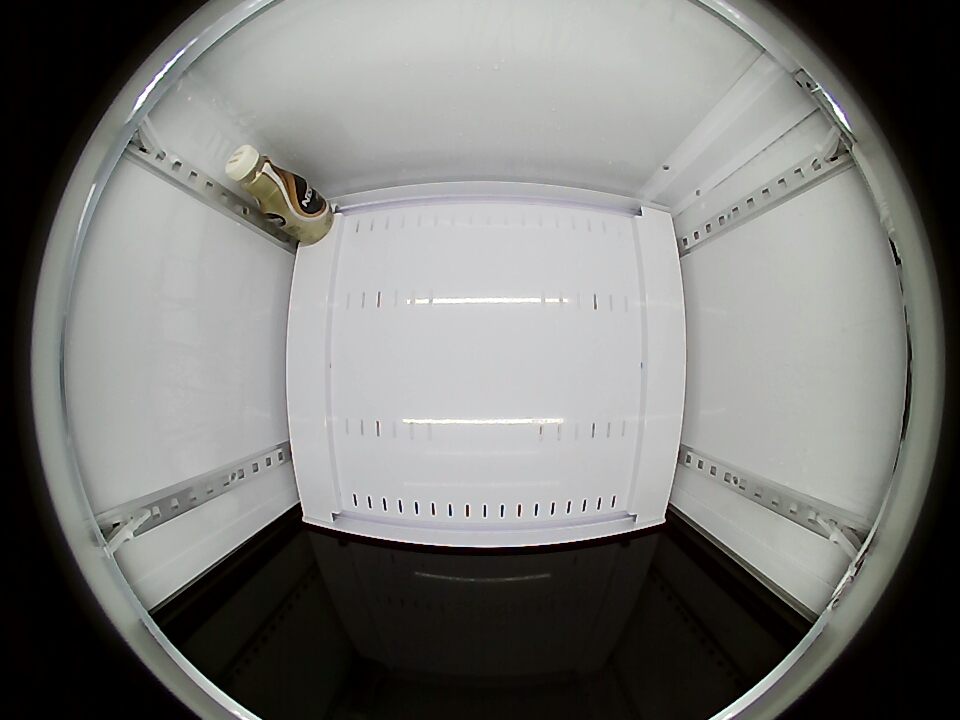kafei: (224, 145, 304, 219)
